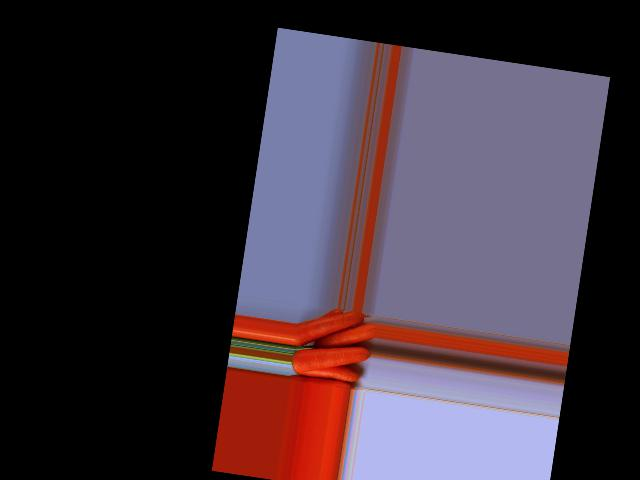carrot: (292, 359, 362, 388)
